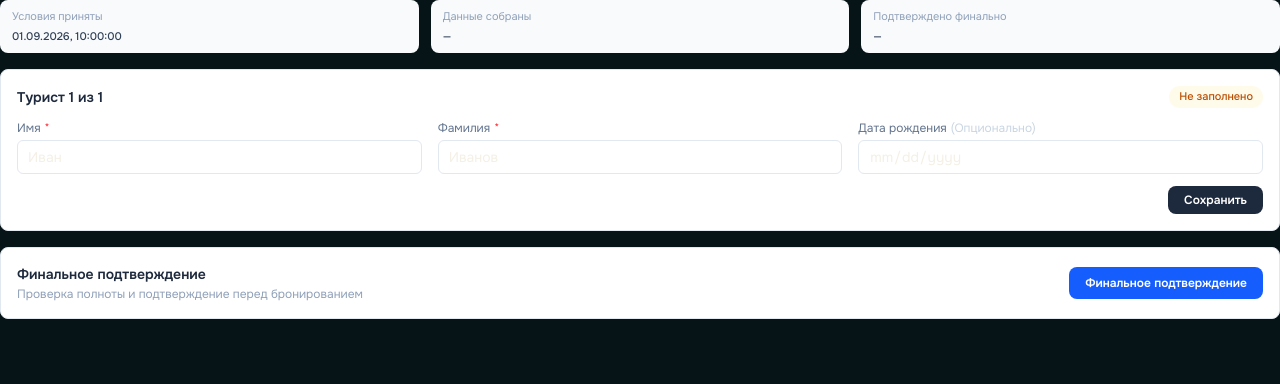
Scenario: TravelerCollectionPanel (D3) › final confirm: неполные данные (server complete:false) — ошибка, final-confirm не вызван
expect the field showing "Иван" is shown: met, box [17,140,422,174]
Click the button "Финальное подтверждение" at [1166, 283], box [1069,267,1263,299]
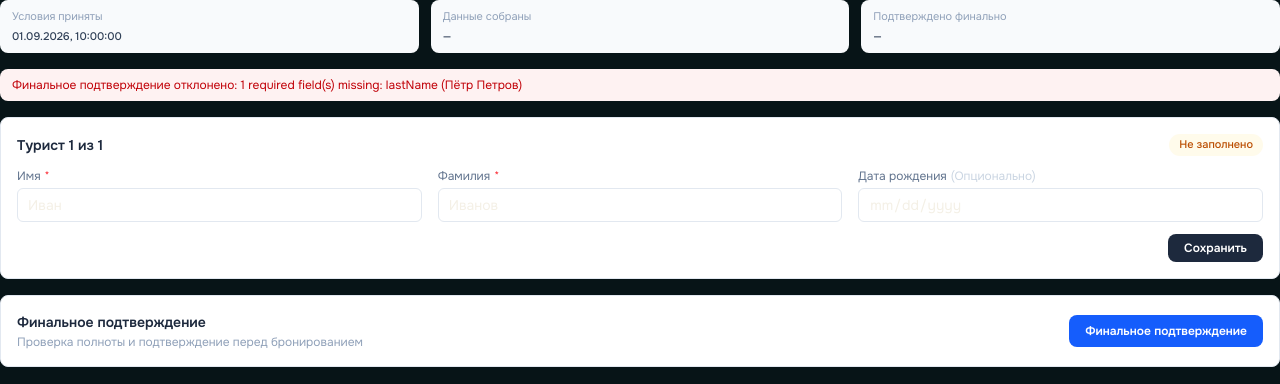
expect the text "отклонено" is shown: met, box [12,77,522,93]
